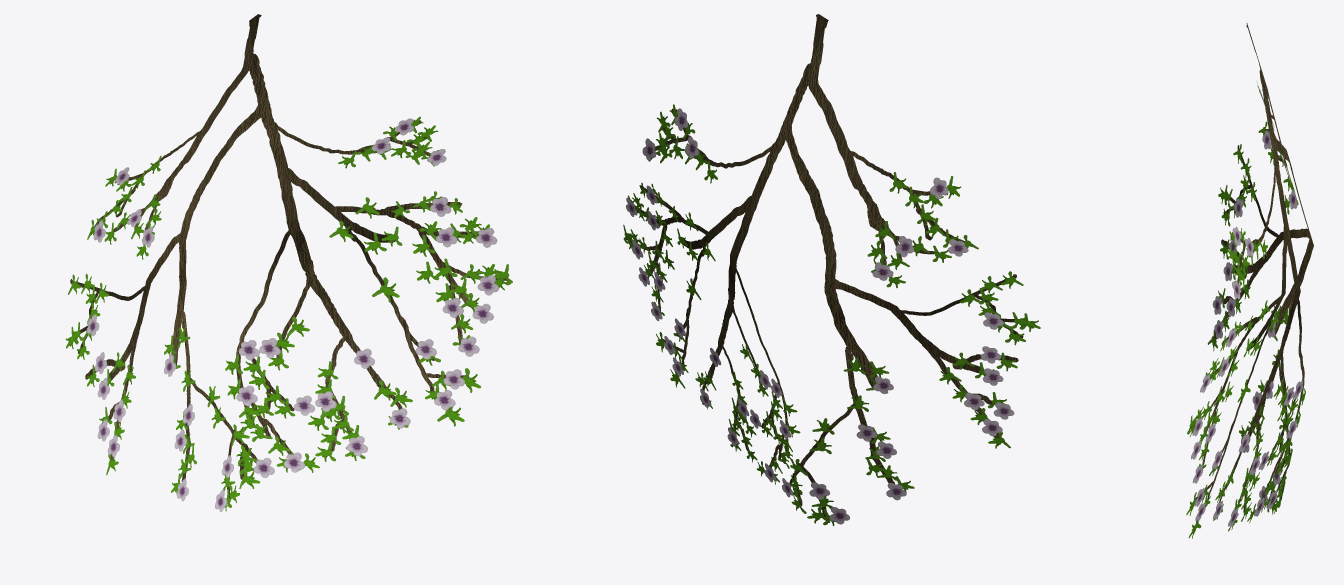
File: LeafMesh10.fbx
The picture shows the model from 3 angles, left to right: view 1: azimuth 30°, elevation 25°; view 2: azimuth 150°, elevation 25°; view 3: azimuth 270°, elevation 25°; orthographic projection.
Visible parts, largest first — view 1: LeafMesh1; view 2: LeafMesh1; view 3: LeafMesh1.
Boxes of the visible parts, x1,y1,x2,y2 form: LeafMesh1: (65, 14, 512, 511); LeafMesh1: (623, 14, 1040, 525); LeafMesh1: (1186, 23, 1313, 538).
Size of the model in its own units: 2 by 2.07 by 0.6195.
